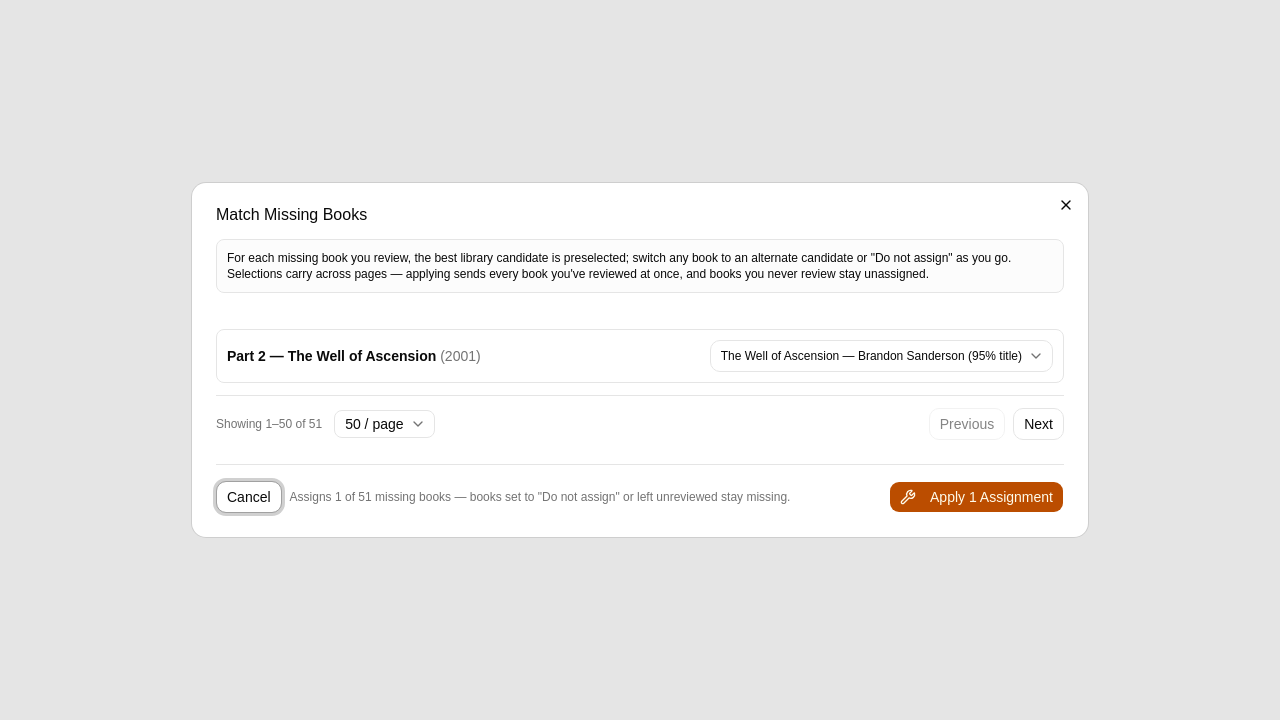
Test: BulkMissingBookMatchDialog › paging requests the next page and keeps selections
The width and height of the screenshot is (1280, 720).
Expected: the text "Part 2 — The Well of Ascension" is shown, [227,348,436,364]
Click the button "Next" at x=1039, y=424, box [1013,408,1064,440]
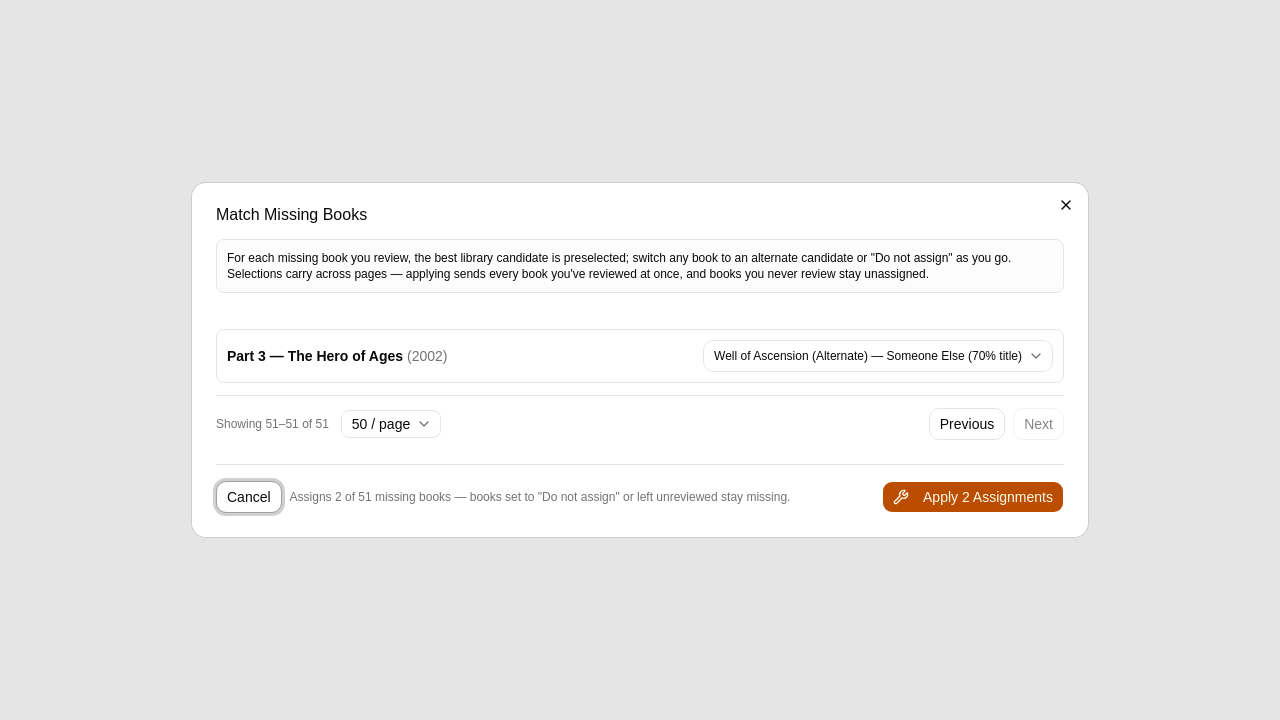
Expected: the text "Part 3 — The Hero of Ages" is shown, [227,348,403,364]
Expected: the button "Apply 2 Assignments" is shown, [882,481,1064,513]
